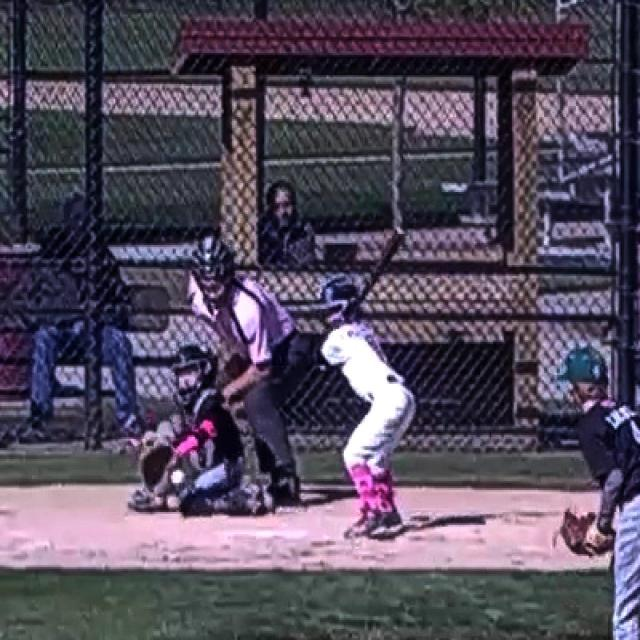baseball: (172, 471, 183, 483)
